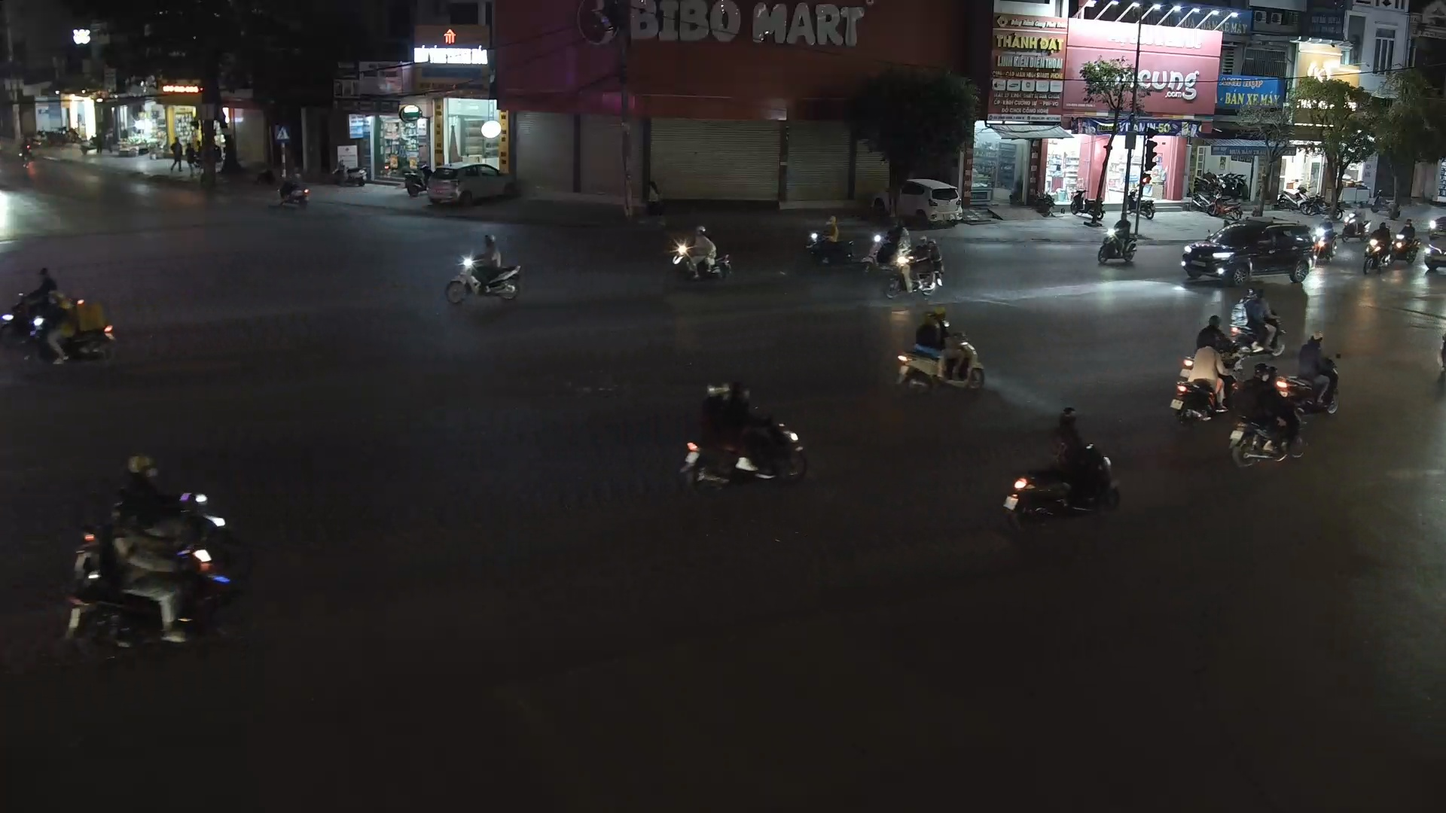car: (1180, 216, 1316, 288)
motorbike: (60, 450, 240, 664), (677, 377, 809, 495), (1001, 403, 1123, 530), (13, 265, 119, 371), (1227, 363, 1311, 469), (893, 304, 988, 397), (1168, 323, 1238, 425), (443, 229, 526, 308), (1274, 330, 1345, 416), (1228, 286, 1286, 359), (883, 237, 944, 299), (669, 226, 733, 284), (1095, 214, 1140, 269)
